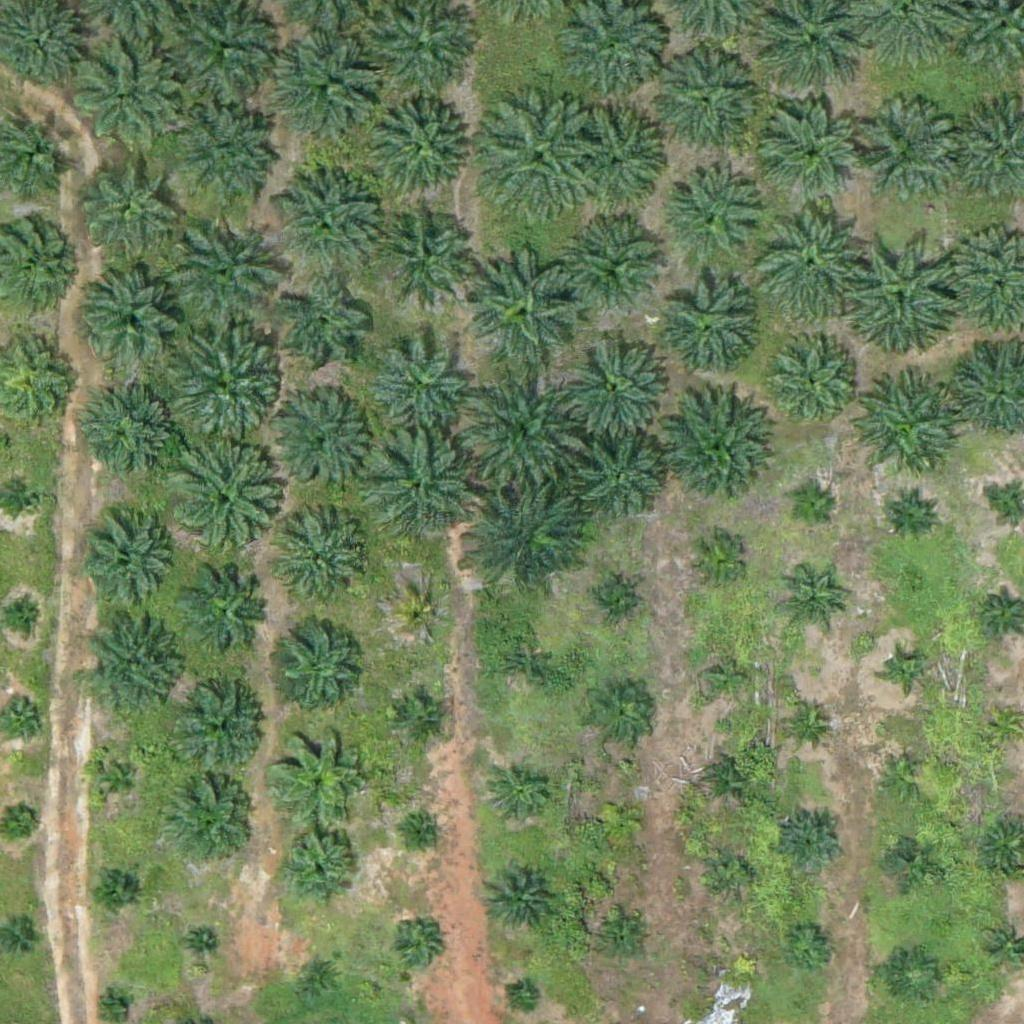Kelapa_Sawit: (841, 233, 966, 359), (749, 199, 874, 325), (474, 94, 599, 220), (459, 364, 584, 490), (467, 475, 592, 601), (160, 322, 285, 447), (160, 441, 285, 566), (658, 395, 771, 509), (367, 433, 480, 546), (272, 168, 385, 281), (169, 99, 282, 212), (166, 217, 279, 330), (559, 325, 671, 439), (469, 245, 581, 359), (847, 377, 959, 490), (71, 44, 183, 157), (853, 102, 953, 203), (763, 105, 863, 206), (762, 332, 862, 433), (651, 52, 751, 153), (663, 168, 763, 269), (565, 101, 665, 202), (371, 334, 471, 435), (275, 280, 375, 381), (270, 389, 370, 490), (73, 150, 173, 251), (84, 267, 184, 368), (81, 386, 181, 487), (78, 514, 178, 615), (268, 724, 368, 825), (86, 616, 186, 717), (655, 277, 755, 377), (568, 216, 668, 316), (368, 96, 468, 196), (377, 204, 477, 304), (280, 40, 380, 140), (281, 518, 369, 607), (275, 825, 363, 913), (577, 436, 665, 524), (166, 774, 254, 862), (178, 682, 266, 770), (185, 569, 273, 657), (275, 614, 362, 702), (481, 861, 556, 937), (779, 575, 842, 638), (685, 529, 748, 592), (781, 811, 844, 874), (696, 646, 759, 709), (589, 684, 651, 747), (489, 763, 551, 826), (493, 633, 555, 696), (888, 950, 938, 1001), (886, 832, 936, 883), (706, 754, 756, 805), (782, 697, 832, 748), (707, 848, 757, 899), (586, 575, 636, 626), (595, 794, 645, 845), (783, 921, 833, 972), (396, 692, 446, 742), (886, 490, 936, 540), (879, 752, 929, 802), (787, 485, 837, 535), (601, 915, 651, 965), (390, 921, 440, 971), (297, 953, 347, 1003), (89, 863, 139, 913), (397, 592, 447, 642), (92, 754, 142, 804), (985, 706, 1023, 744), (888, 651, 926, 689), (8, 479, 46, 517), (2, 596, 39, 634), (4, 800, 41, 838), (510, 984, 535, 1010), (101, 994, 126, 1019), (411, 820, 436, 845), (189, 930, 213, 955)
